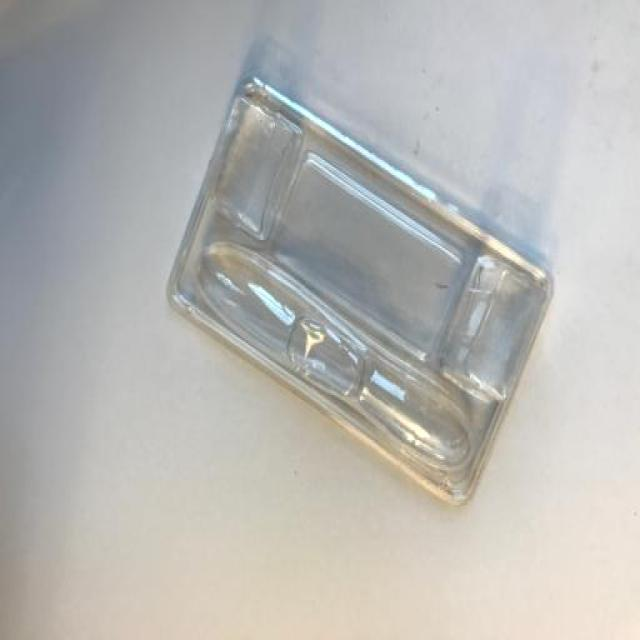inorganic: (172, 141, 550, 426)
